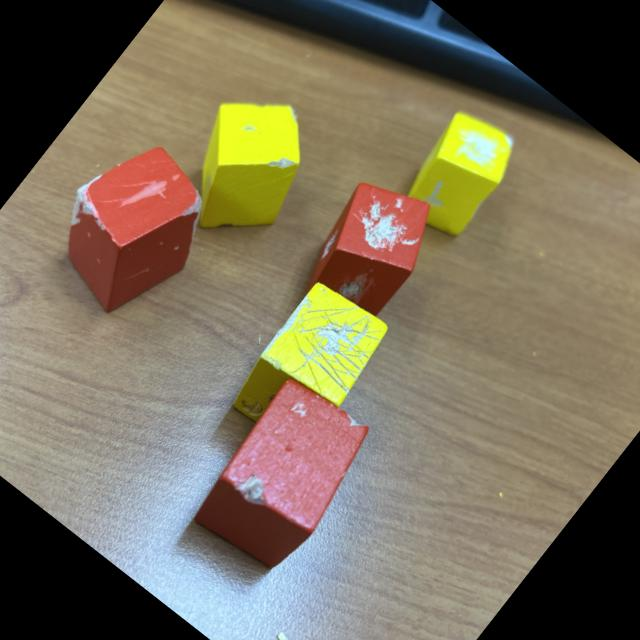broken: (27, 121, 235, 336), (181, 368, 386, 584), (152, 70, 338, 263), (222, 272, 399, 460), (284, 160, 454, 340), (389, 100, 528, 247)
